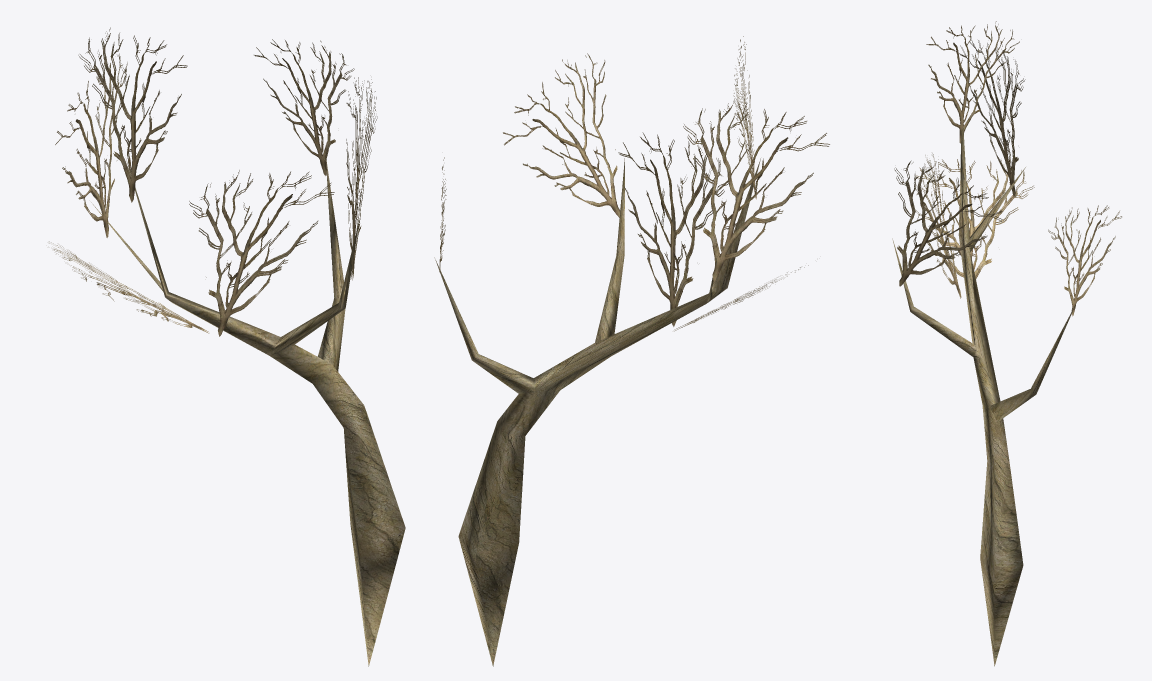
Rendered from decd_endr_destree_dead_a1_l2.fbx.
The picture shows the model from 3 angles, left to right: view 1: azimuth 30°, elevation 25°; view 2: azimuth 150°, elevation 25°; view 3: azimuth 270°, elevation 25°; orthographic projection. The views are drawn at different scales.
Visible parts, largest first — view 1: mesh_node; view 2: mesh_node; view 3: mesh_node.
Part boxes in pixels (bbox=[...]): mesh_node: bbox=[49, 27, 405, 666]; mesh_node: bbox=[434, 36, 829, 666]; mesh_node: bbox=[892, 21, 1121, 666].
Bounding box in the file's own units: 8.54 × 14.51 × 5.87.
